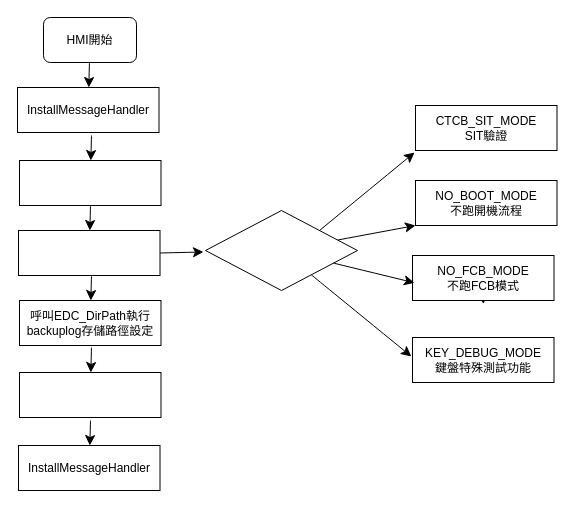
This 575x508 diagram has some shape labels left out. Here are the shapes that lost their labels. From the top down, the centre of each, then its label:
(89,183): 重開模式 (iBootLevel)
(89,253): 輸出字串 程式啟動 PRINT_SYSTEM_LOG
(281,250): 根據情況還會跑其他模式
(89,395): CursorOv erride
